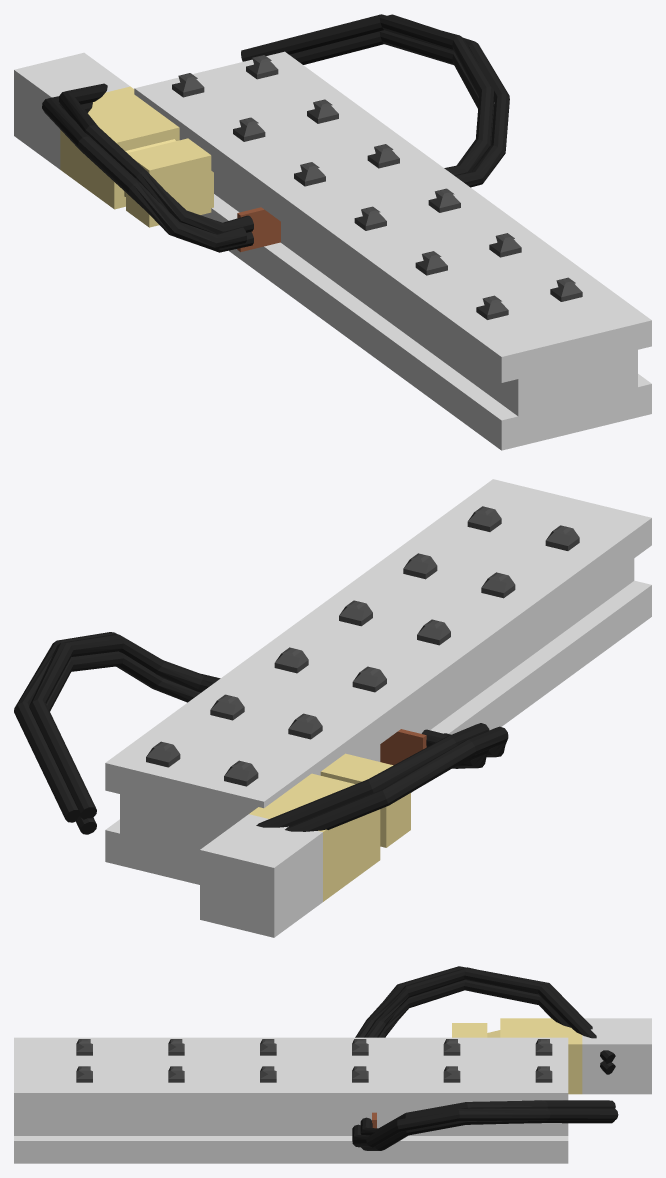
File: railgun4.obj
The picture shows the model from 3 angles, top to bottom: view 1: azimuth 30°, elevation 25°; view 2: azimuth 150°, elevation 25°; view 3: azimuth 270°, elevation 25°; orthographic projection. The views are drawn at different scales.
Visible parts, largest first — view 1: user, cube5; view 2: user, cube5; view 3: user, cube5.
Part boxes in pixels (x1=…): user: x1=42, y1=14, x2=651, y2=450; cube5: x1=14, y1=52, x2=213, y2=227; user: x1=14, y1=479, x2=651, y2=884; cube5: x1=200, y1=753, x2=410, y2=937; user: x1=14, y1=966, x2=618, y2=1163; cube5: x1=452, y1=1018, x2=651, y2=1094.
Size of the model in its own units: 45.72 by 14.44 by 83.33.
5 materials, 5 textured.
